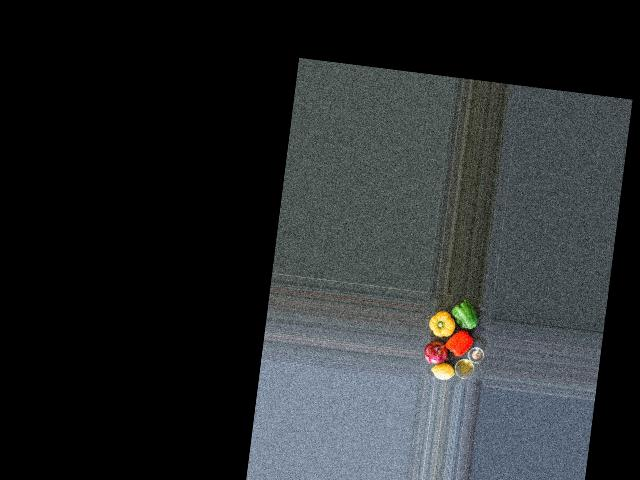bell_pepper: (443, 328, 475, 358)
